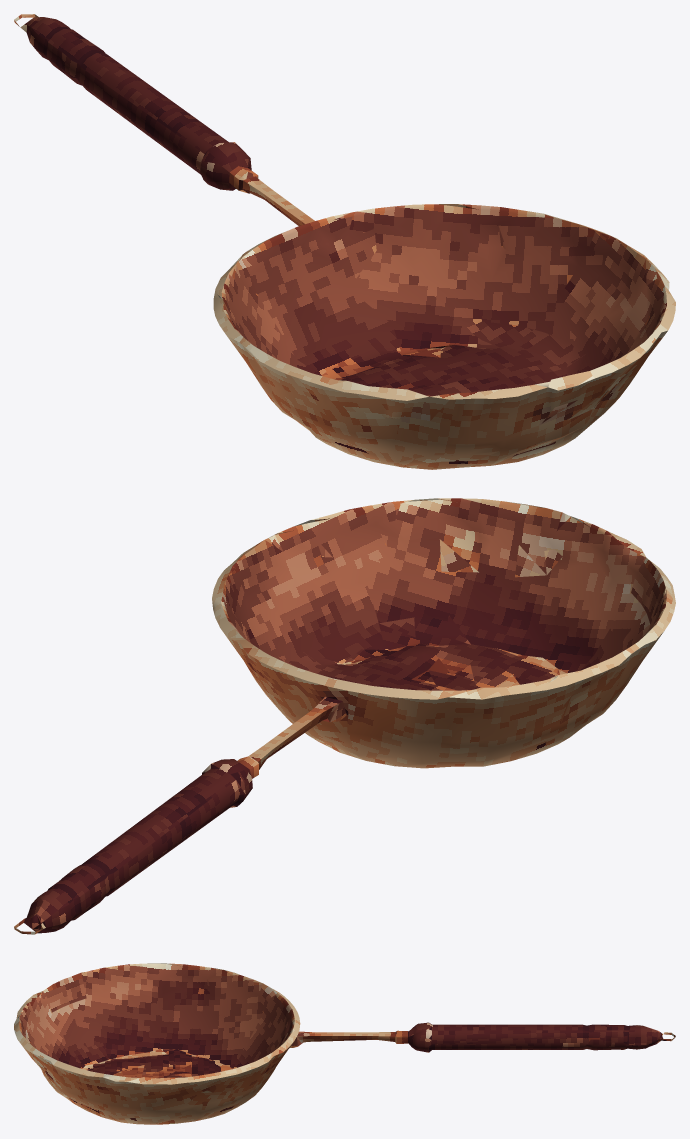
The model's file is brass_pan_01.glb.
3 renders of one model, top to bottom at view 1: azimuth 30°, elevation 25°; view 2: azimuth 150°, elevation 25°; view 3: azimuth 270°, elevation 25°, orthographic. The views are drawn at different scales.
Parts seen in each view (by area): view 1: body; view 2: body; view 3: body.
Part boxes in pixels (x1,y1,x2,y2): body: [14, 14, 675, 469]; body: [14, 498, 675, 934]; body: [14, 963, 675, 1124].
Size of the model in its own units: 0.1902 by 0.0525 by 0.4459.
Materials: 1 (1 with a texture image).
